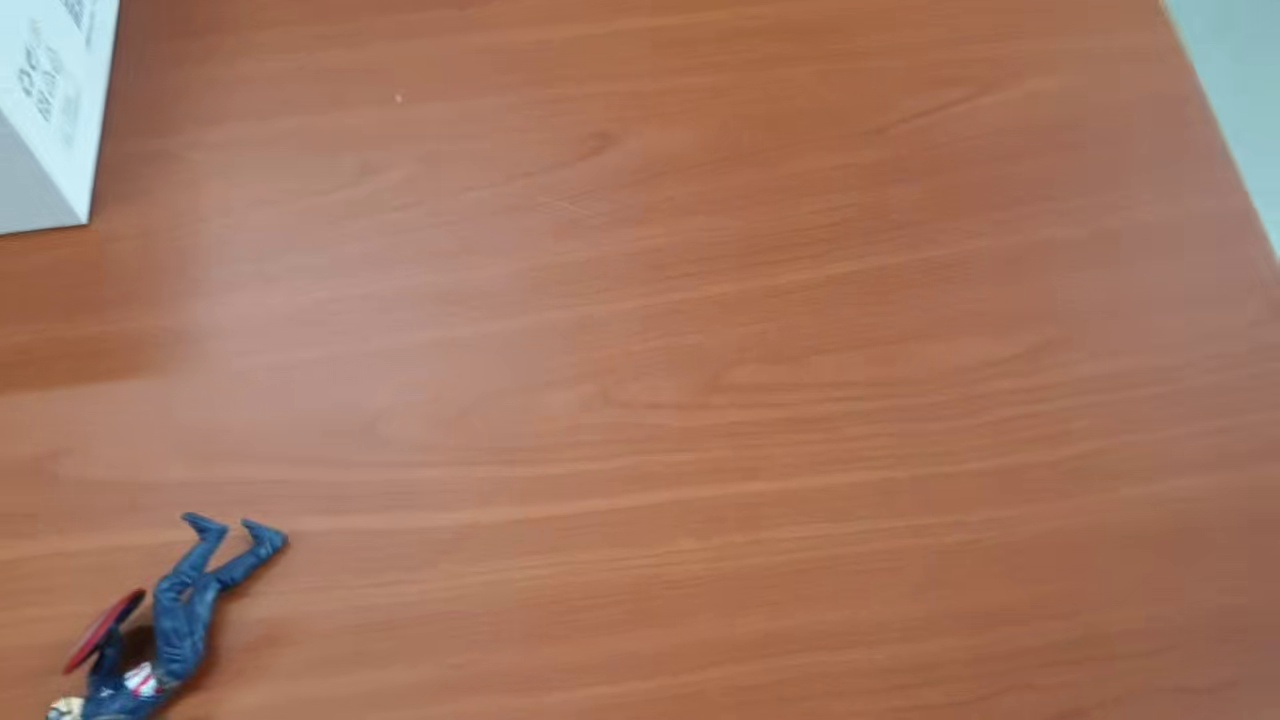people: (42, 507, 294, 720)
